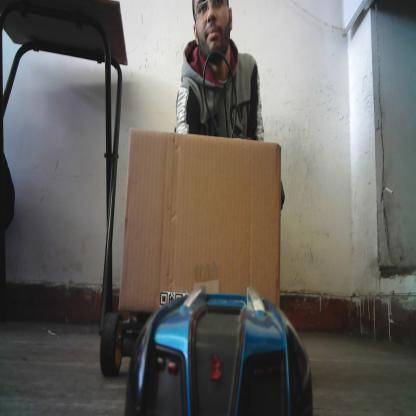LeadTruck: (100, 125, 291, 384)
